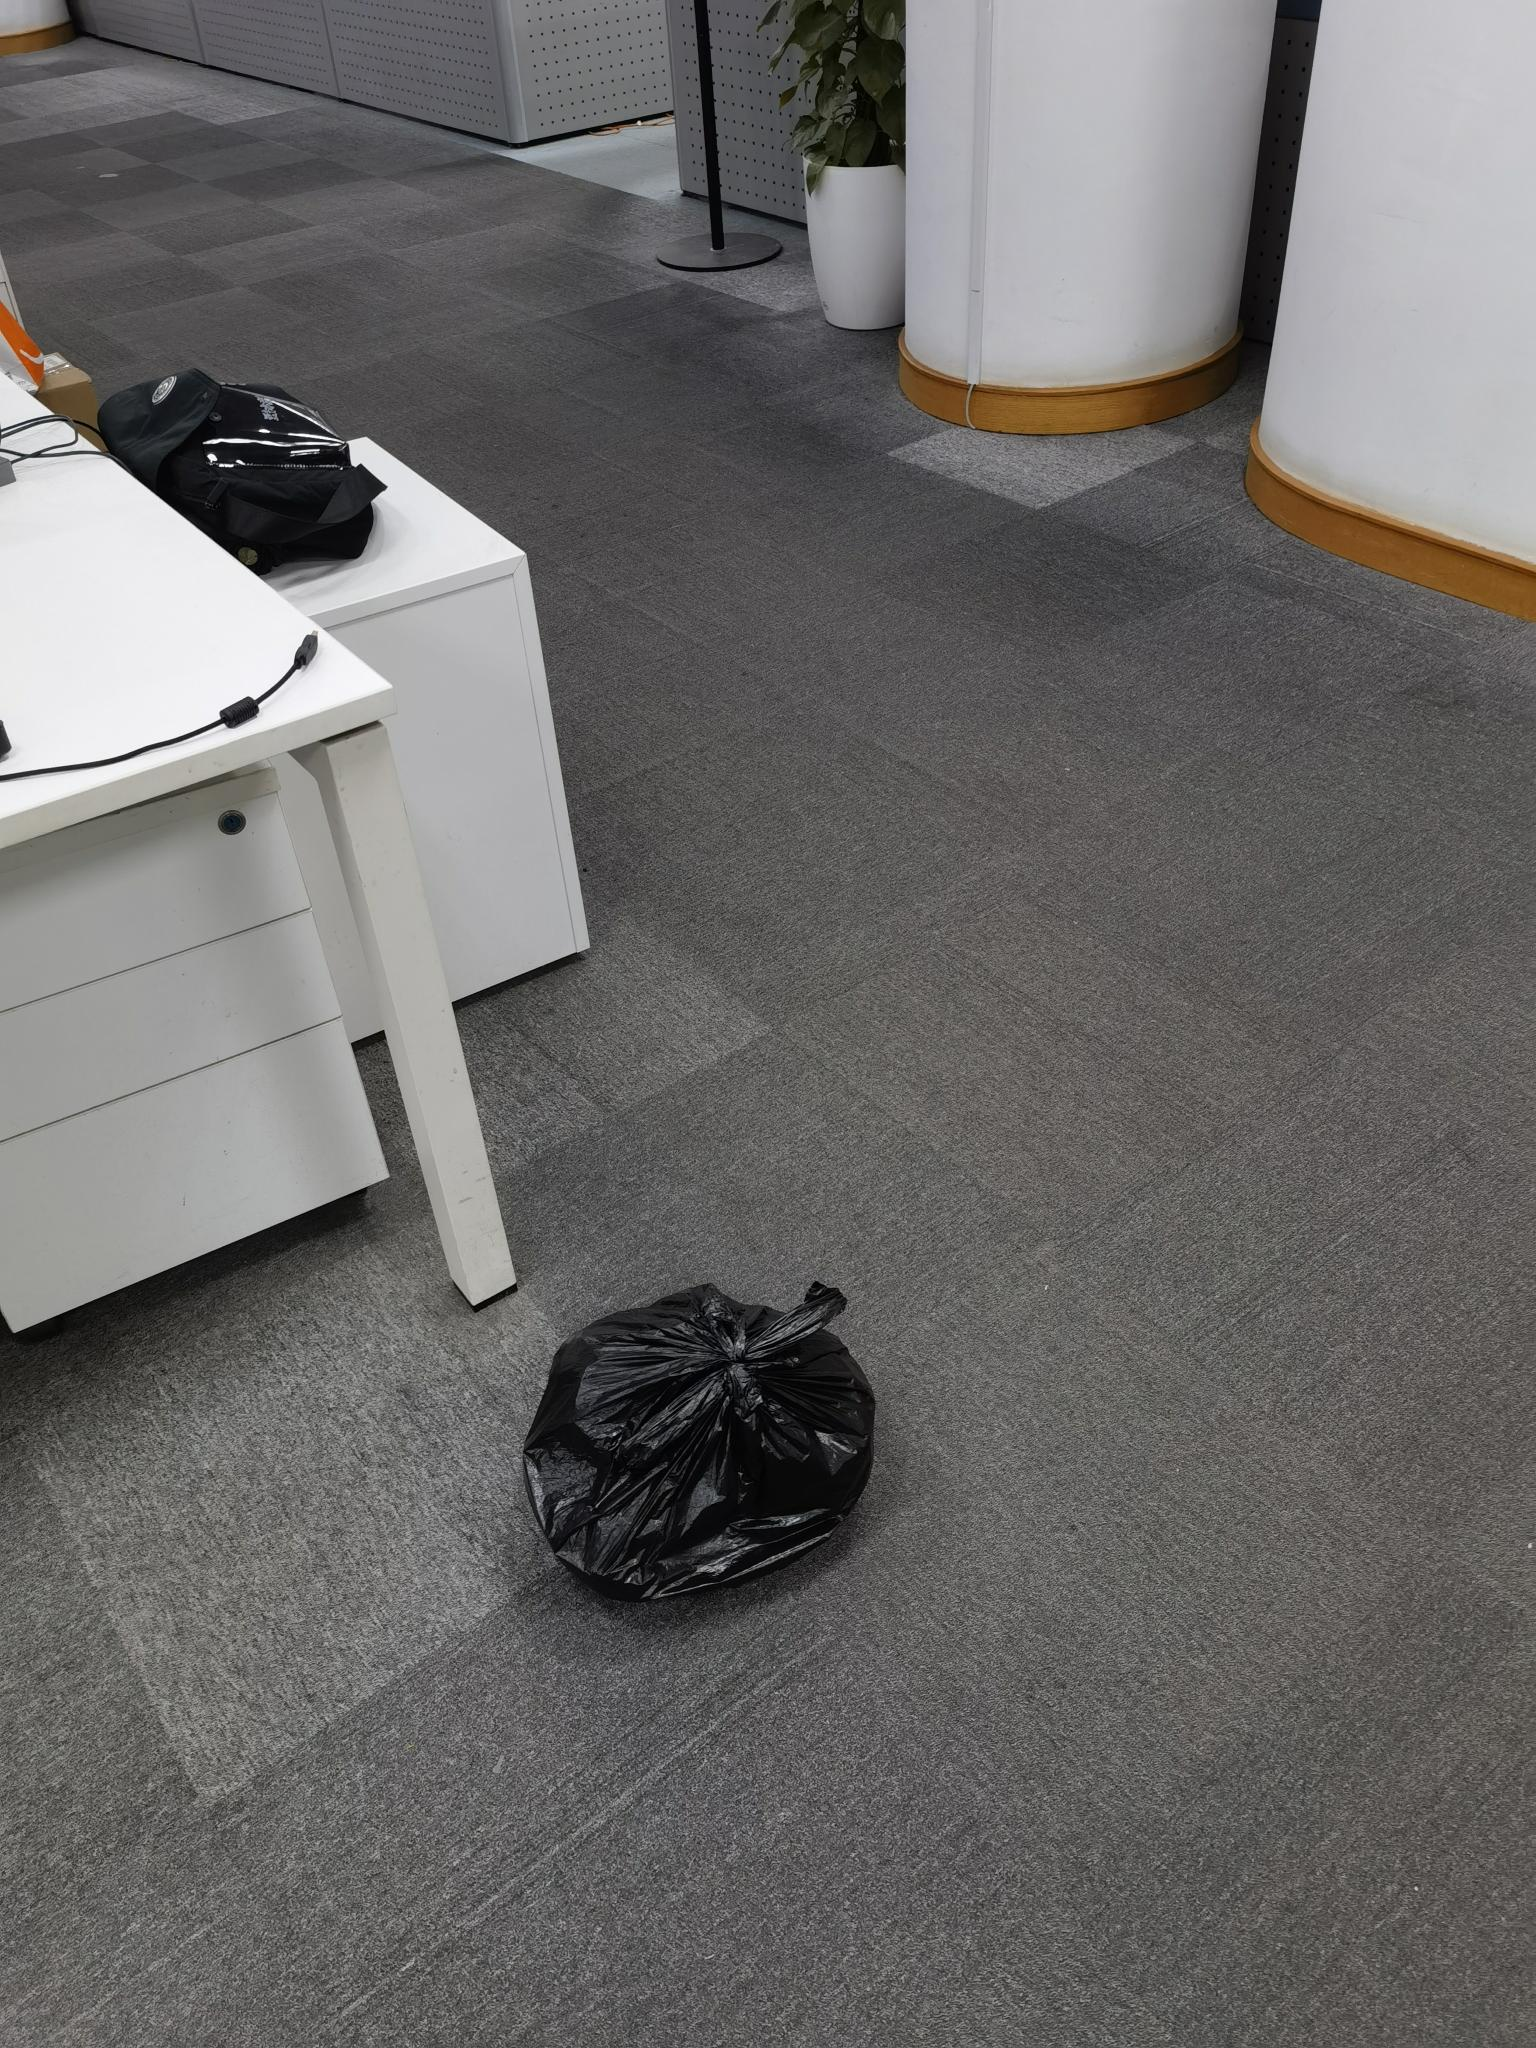black_bag: (523, 1271, 884, 1634)
